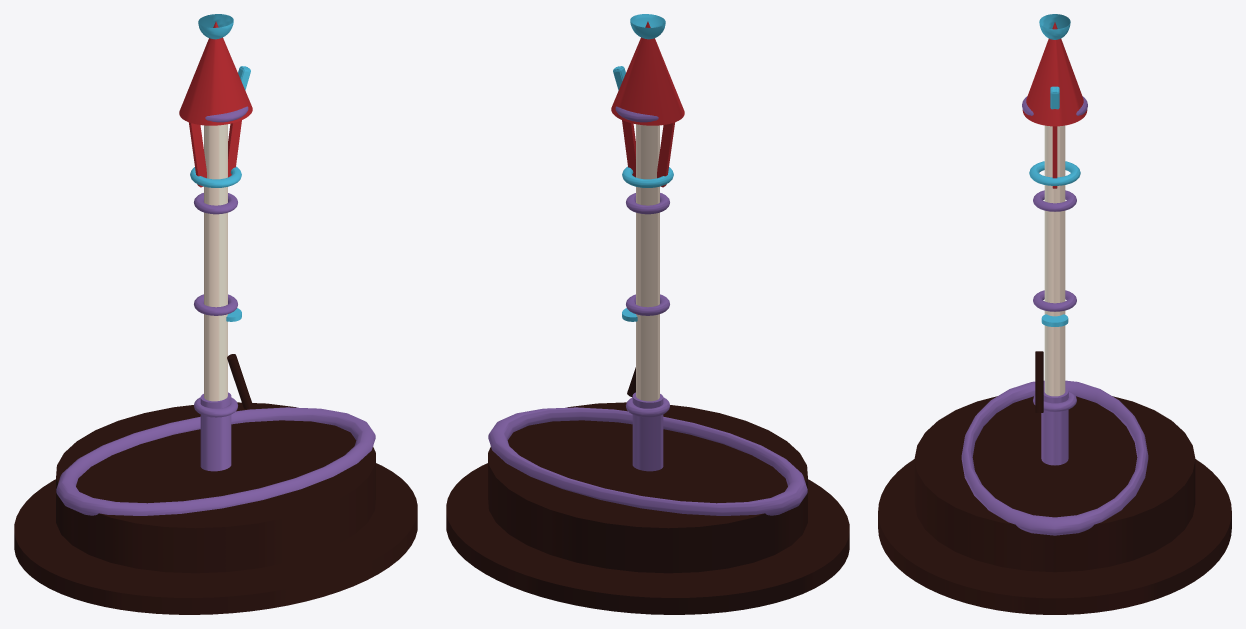
Rendered from 0206_生活中的物理图鉴_太阳能发电板.glb.
The picture shows the model from 3 angles, left to right: view 1: azimuth 30°, elevation 25°; view 2: azimuth 150°, elevation 25°; view 3: azimuth 270°, elevation 25°; orthographic projection.
Visible parts, largest first — view 1: card_0206; view 2: card_0206; view 3: card_0206.
Part boxes in pixels (<box>): card_0206: <box>14,14,417,614</box>; card_0206: <box>446,14,849,614</box>; card_0206: <box>878,14,1231,614</box>.
Size of the model in its own units: 0.7343 by 1 by 0.633.
